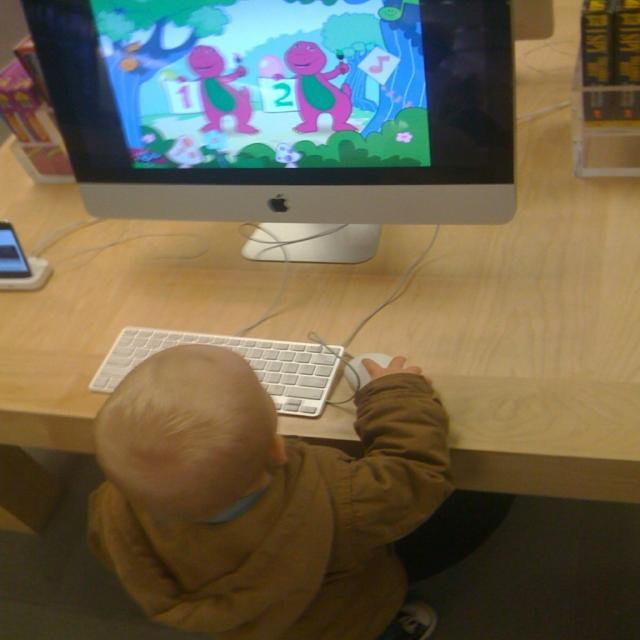others: (22, 1, 542, 263)
